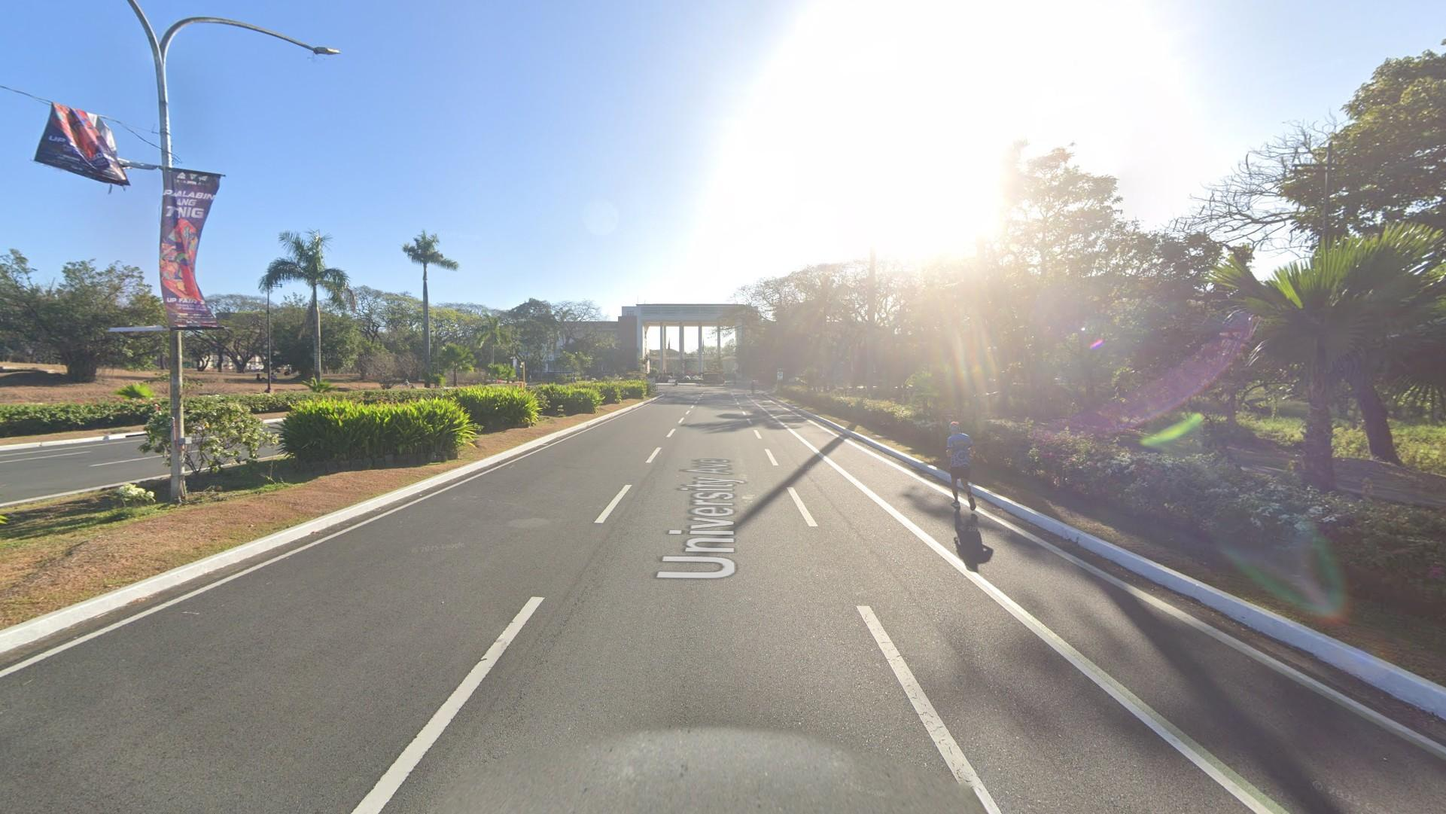pedestrian: (946, 421, 978, 511), (750, 380, 755, 396), (674, 378, 679, 387), (733, 377, 737, 388)
